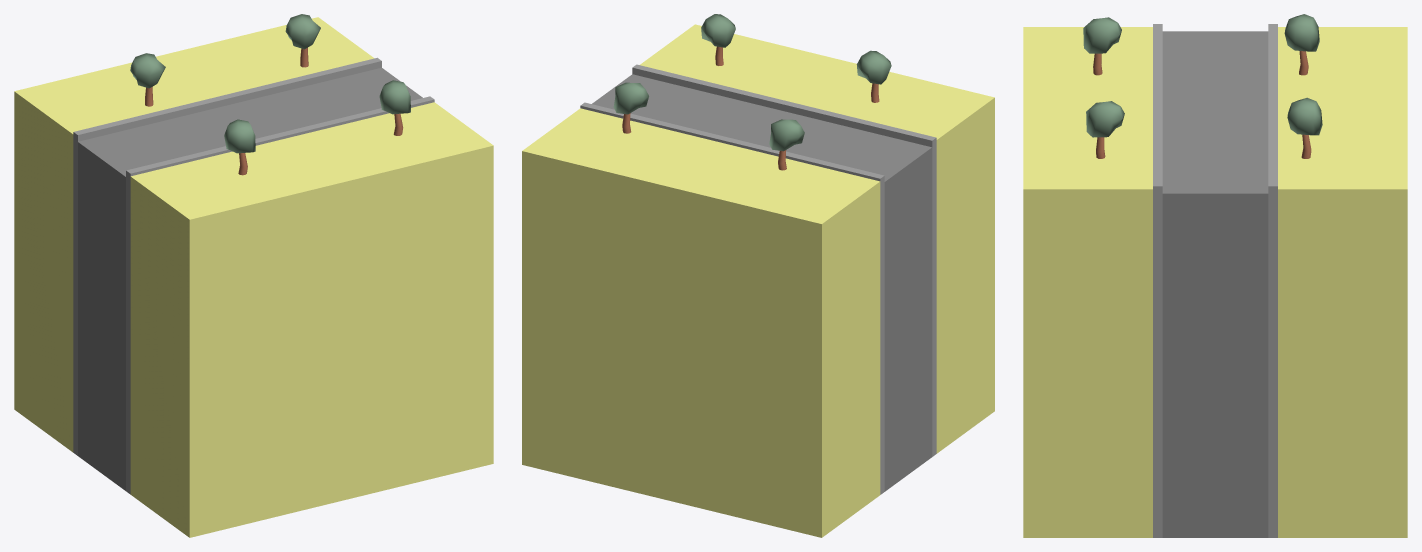
The model's file is City_tile_01.fbx.
3 renders of one model, left to right at view 1: azimuth 30°, elevation 25°; view 2: azimuth 150°, elevation 25°; view 3: azimuth 270°, elevation 25°, orthographic. The views are drawn at different scales.
Visible parts, largest first — view 1: City_tile_01; view 2: City_tile_01; view 3: City_tile_01.
Part boxes in pixels (bbox=[...]): City_tile_01: bbox=[14, 14, 493, 537]; City_tile_01: bbox=[522, 14, 994, 537]; City_tile_01: bbox=[1023, 14, 1407, 537].
Size of the model in its own units: 100 by 116 by 100.
